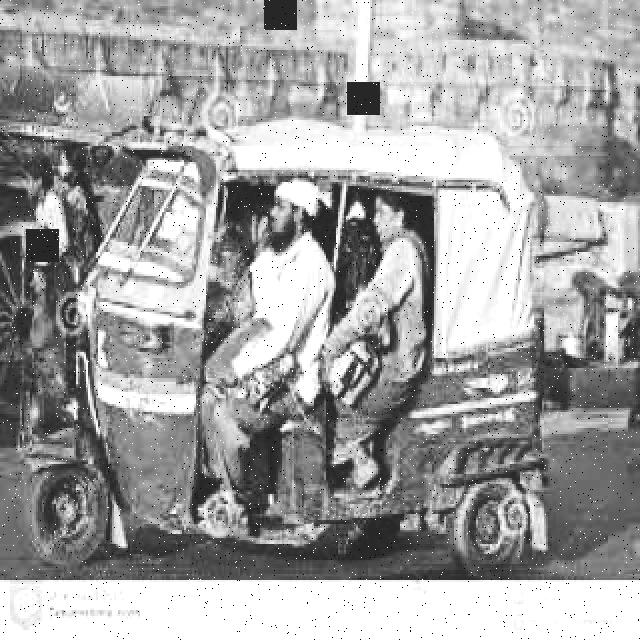Auto-Rickshaw: (50, 124, 554, 560)
